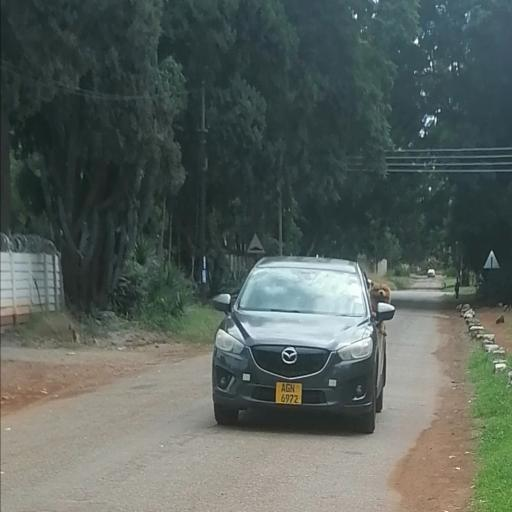number-plates: (276, 377, 303, 405)
